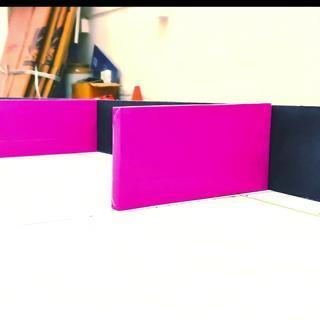xparking: (114, 106, 270, 198), (2, 98, 96, 152)
